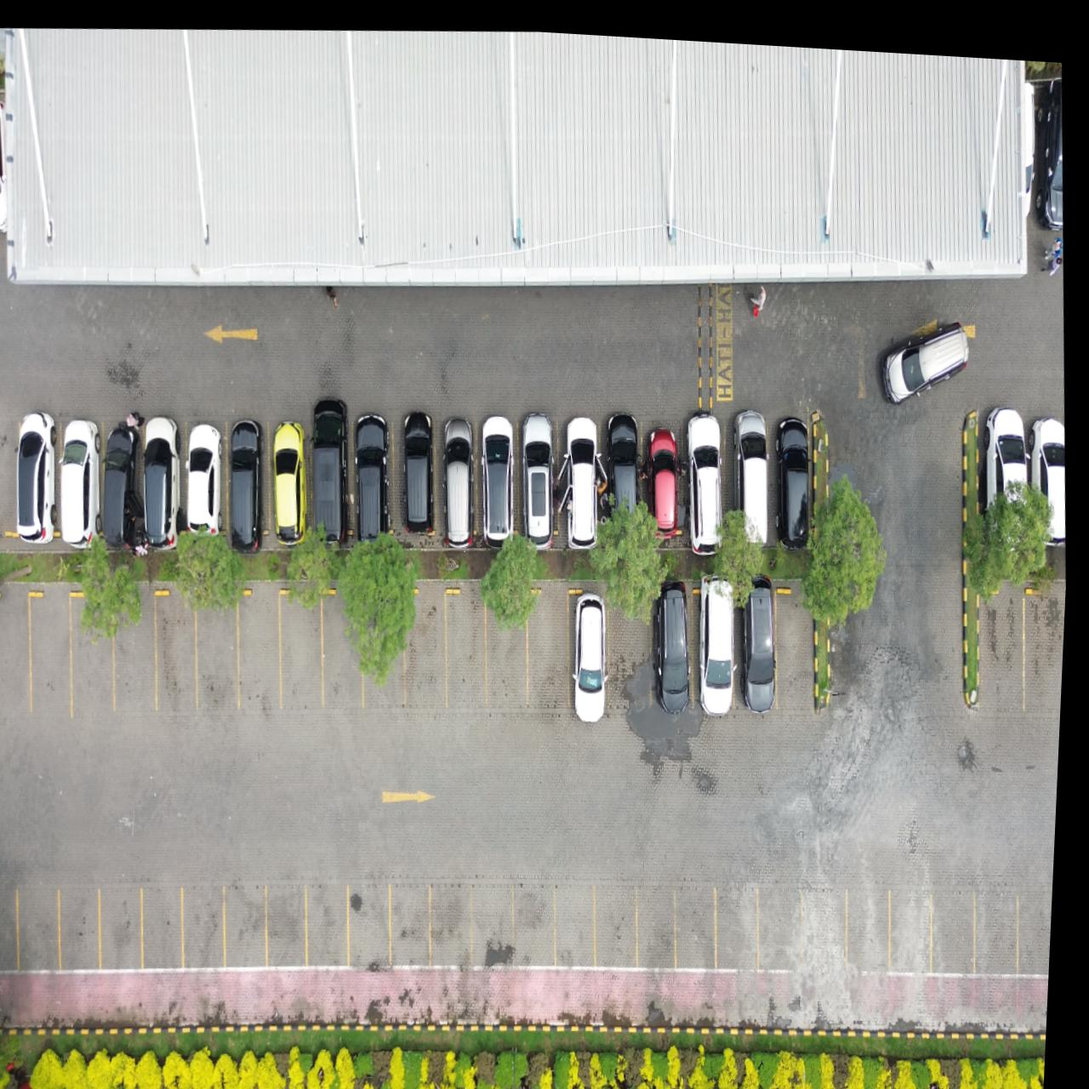cars: (140, 415, 190, 547), (433, 416, 483, 548), (56, 414, 105, 546), (98, 412, 147, 544), (14, 408, 63, 540), (306, 414, 355, 546), (264, 411, 313, 543), (221, 413, 270, 545), (180, 408, 229, 540), (475, 419, 524, 551), (391, 418, 440, 550), (349, 413, 398, 545), (601, 418, 650, 550), (558, 421, 607, 553), (516, 415, 565, 547), (726, 419, 775, 551), (684, 414, 733, 546), (733, 584, 782, 716), (690, 582, 739, 714), (649, 580, 698, 712), (565, 587, 614, 719), (642, 421, 691, 552), (768, 417, 817, 548)
empty: (65, 578, 122, 731), (22, 578, 77, 731), (149, 578, 202, 732), (191, 577, 244, 730), (108, 577, 160, 732), (358, 579, 411, 729), (275, 579, 328, 729), (233, 578, 286, 728), (521, 578, 575, 725), (603, 578, 657, 724), (317, 580, 370, 728), (480, 579, 532, 726), (401, 577, 452, 726), (440, 579, 491, 726), (771, 580, 820, 722), (0, 579, 36, 732), (0, 397, 25, 543)
